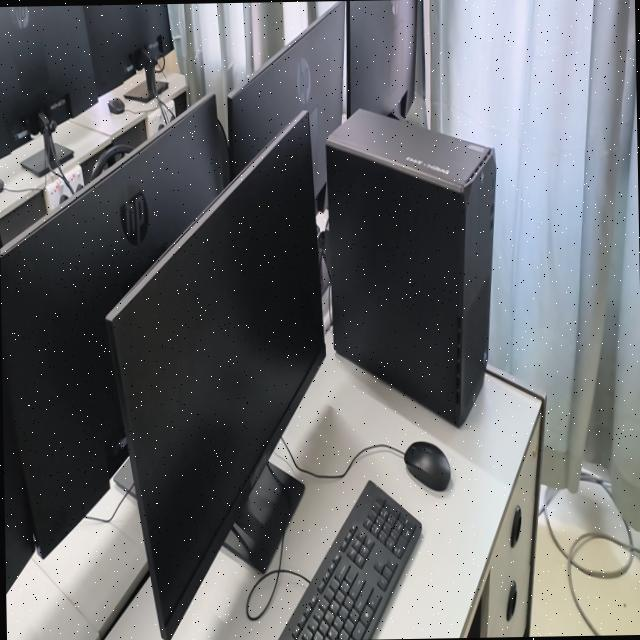Cpu: (325, 108, 494, 425)
Keyboard: (276, 480, 419, 640)
Monitor: (105, 113, 324, 640), (0, 94, 229, 555), (227, 0, 344, 197), (0, 4, 96, 157), (344, 0, 415, 115), (82, 3, 171, 92), (1, 354, 33, 592)
Mouse: (403, 440, 449, 490), (106, 96, 123, 112)
